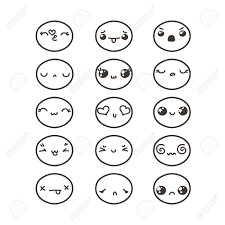feliz: (149, 92, 201, 130), (33, 95, 82, 129), (39, 103, 71, 121), (158, 104, 190, 120)
triste: (89, 171, 146, 208), (148, 57, 200, 91), (28, 175, 81, 207), (149, 173, 199, 206), (149, 19, 196, 53), (33, 60, 82, 91), (38, 181, 72, 198), (156, 26, 187, 44), (156, 181, 189, 197), (154, 65, 191, 79), (99, 183, 130, 198), (39, 69, 73, 80)
